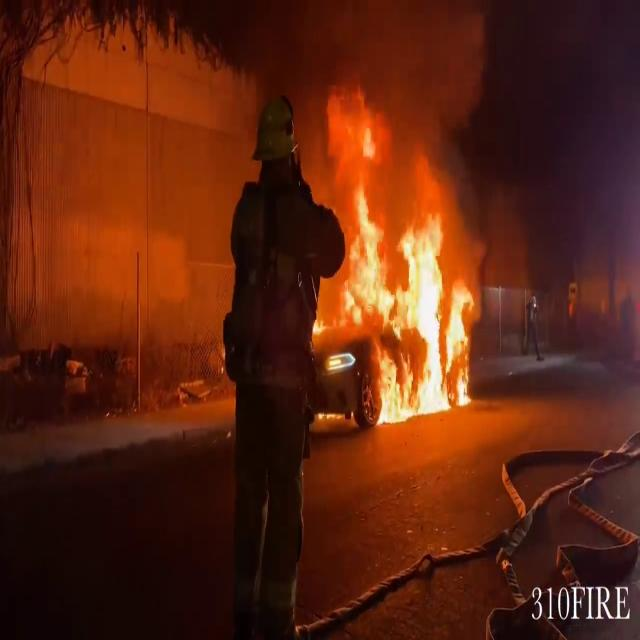Fire: (318, 88, 478, 424)
